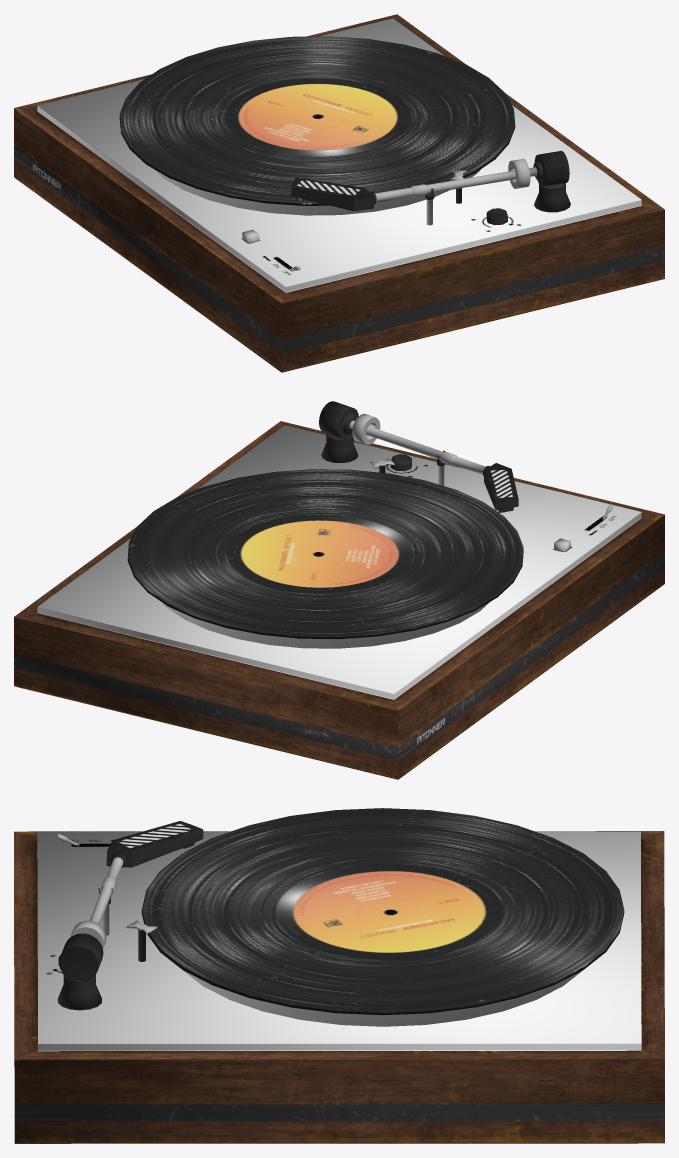
Rendered from VinylPlayer.fbx.
3 renders of one model, top to bottom at view 1: azimuth 30°, elevation 25°; view 2: azimuth 150°, elevation 25°; view 3: azimuth 270°, elevation 25°, orthographic. The views are drawn at different scales.
Parts seen in each view (by area): view 1: aadisco.001; view 2: aadisco.001; view 3: aadisco.001.
Part boxes in pixels (left/top/right/bottom): aadisco.001: left=14, top=14, right=664, bottom=372; aadisco.001: left=14, top=401, right=664, bottom=779; aadisco.001: left=14, top=808, right=664, bottom=1143.
Size of the model in its own units: 36.36 by 11.95 by 43.83.
